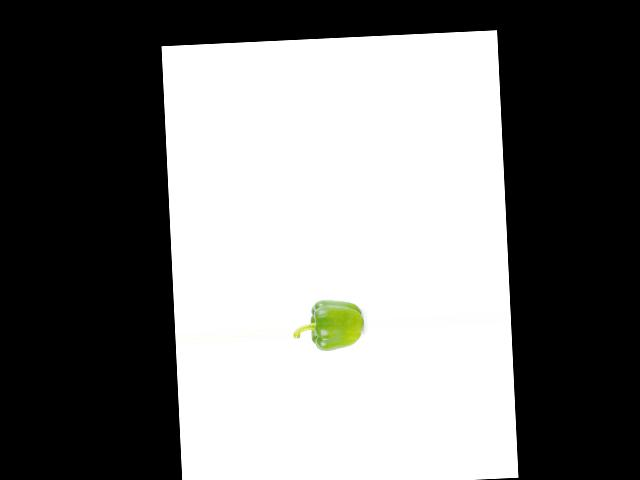bell_pepper: (293, 290, 364, 353)
